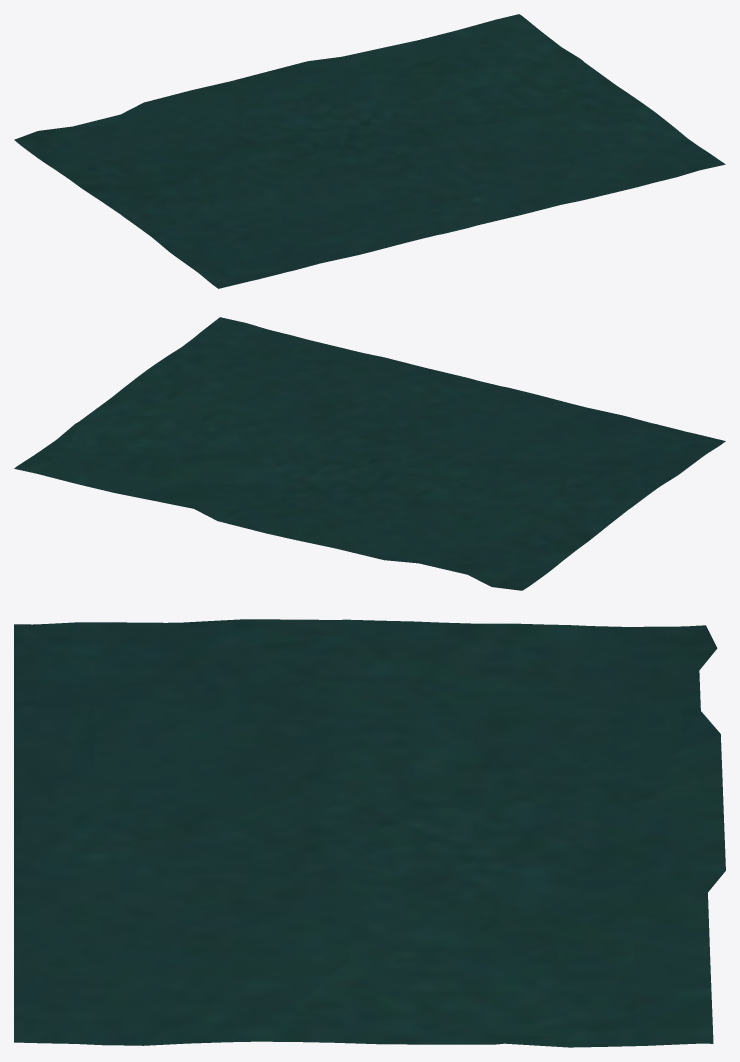
3 renders of one model, top to bottom at view 1: azimuth 30°, elevation 25°; view 2: azimuth 150°, elevation 25°; view 3: azimuth 270°, elevation 25°, orthographic. The views are drawn at different scales.
Bounding box in the file's own units: 52.22 × 0.607 × 37.49.
2 materials, 2 textured.
